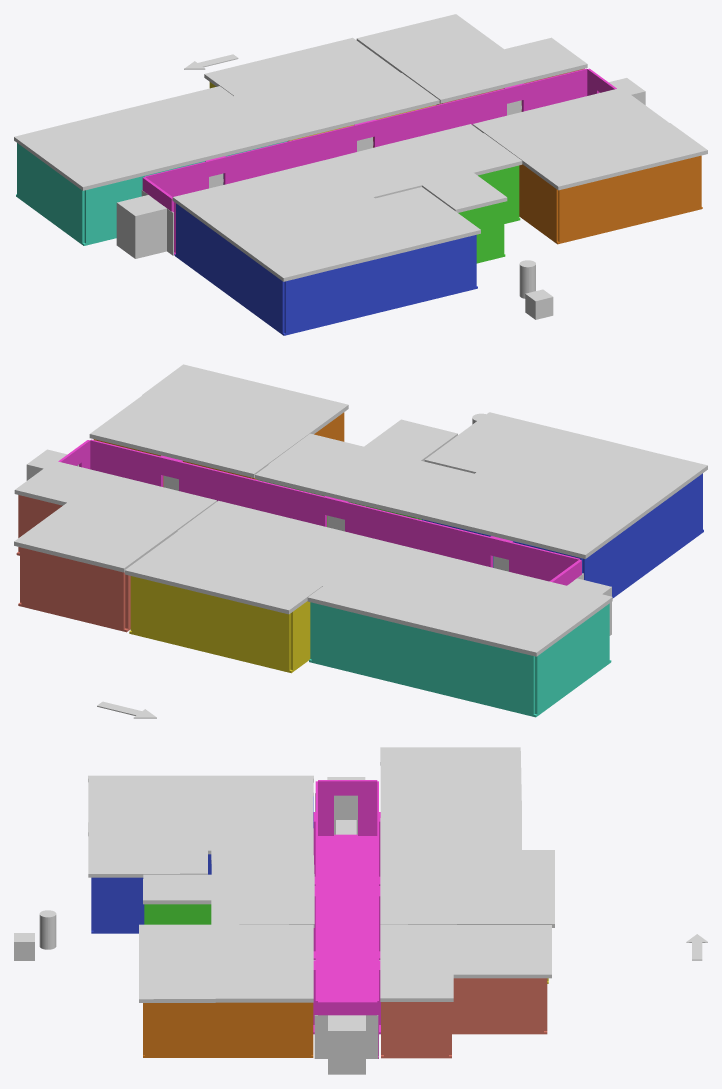
The model's file is Greybox_V2.fbx.
The picture shows the model from 3 angles, top to bottom: view 1: azimuth 30°, elevation 25°; view 2: azimuth 150°, elevation 25°; view 3: azimuth 270°, elevation 25°; orthographic projection. The views are drawn at different scales.
Parts seen in each view (by area): view 1: Cellings R6, Room 6, Cellings R5, Cellings R2, Cellings R3, 25X3X0.1 Floor, Cellings R1, Room 2, Cellings R4, Room 5, Room 4, Elevator End (+2 smaller); view 2: Cellings R6, Cellings R5, Room 5, Cellings R2, Cellings R3, 25X3X0.1 Floor, Cellings R1, Cellings R4, Room 3, Room 1, Room 6, Room 2 (+1 smaller); view 3: Cellings R6, 25X3X0.1 Floor, Cellings R5, Cellings R2, Cellings R3, Cellings R1, Cellings R4, Room 2, Room 1, Room 6, Elevator Start, Room 4 (+5 smaller).
Part boxes in pixels (x1,y1,x2,y2): Cellings R6: [172, 161, 480, 281]; Room 6: [174, 203, 477, 335]; Cellings R5: [14, 86, 289, 190]; Cellings R2: [472, 88, 707, 190]; Cellings R3: [204, 37, 439, 140]; 25X3X0.1 Floor: [142, 68, 616, 255]; Cellings R1: [356, 14, 587, 103]; Room 2: [519, 155, 702, 244]; Cellings R4: [320, 124, 522, 212]; Room 5: [16, 141, 287, 245]; Room 4: [458, 165, 520, 263]; Elevator End: [116, 195, 166, 258]; Cellings R6: [419, 412, 707, 558]; Cellings R5: [307, 541, 612, 656]; Room 5: [309, 602, 611, 717]; Cellings R2: [89, 364, 348, 477]; Cellings R3: [124, 500, 383, 614]; 25X3X0.1 Floor: [58, 439, 581, 585]; Cellings R1: [14, 460, 216, 572]; Cellings R4: [255, 419, 477, 518]; Room 3: [129, 576, 310, 673]; Room 1: [16, 495, 130, 632]; Room 6: [421, 473, 703, 598]; Room 2: [93, 412, 344, 486]; Cellings R6: [88, 775, 313, 877]; 25X3X0.1 Floor: [313, 780, 380, 1058]; Cellings R5: [380, 747, 521, 850]; Cellings R2: [139, 924, 313, 1002]; Cellings R3: [380, 850, 554, 927]; Cellings R1: [380, 925, 551, 1001]; Cellings R4: [143, 849, 314, 927]; Room 2: [143, 1002, 313, 1057]; Room 1: [381, 978, 547, 1058]; Room 6: [91, 796, 313, 933]; Elevator Start: [328, 1015, 365, 1074]; Room 4: [144, 904, 211, 924].
Size of the model in its own units: 6007 by 725 by 6595.
